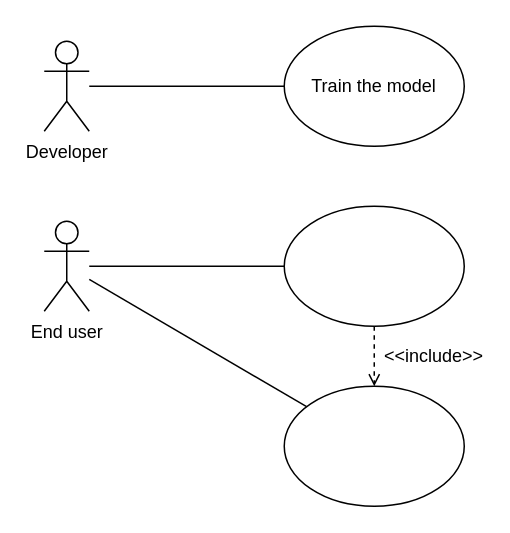
This 510x533 diagram has some shape labels left out. Each missing label, with the centre of its shape:
Model Prediction: point (373, 445)
Model Prediction & comparison with user code: point (373, 265)
